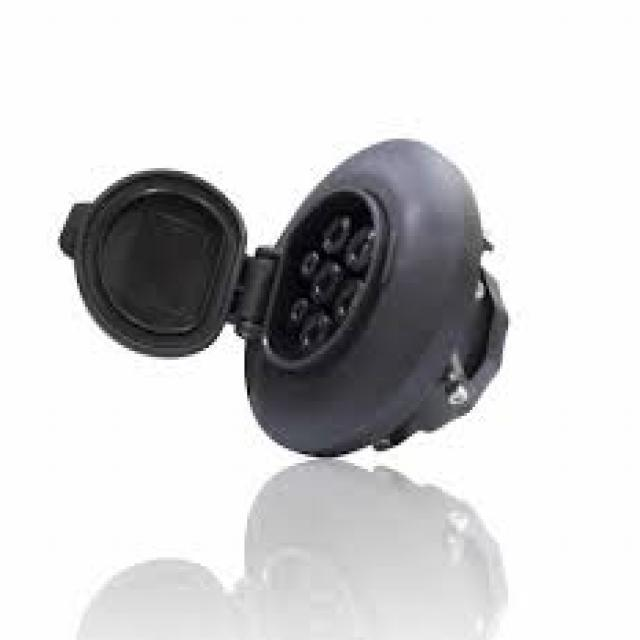Type 2: (227, 124, 444, 463)
